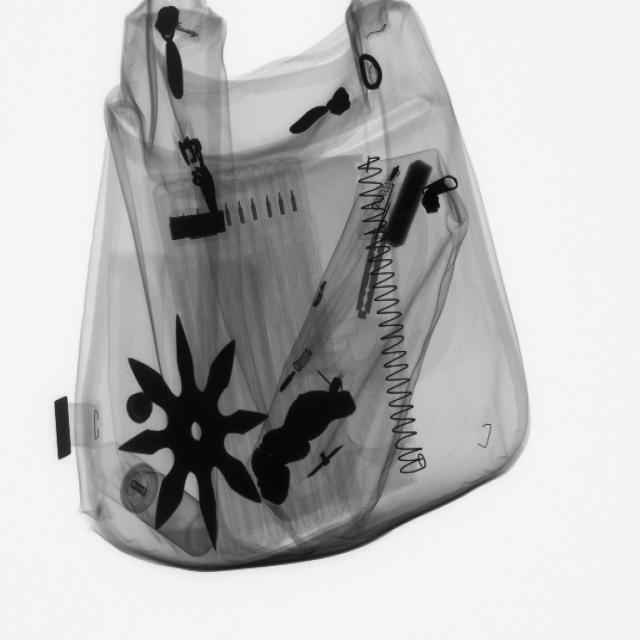BLADE: (355, 231, 388, 329)
SHURIKEN: (116, 310, 269, 552)
